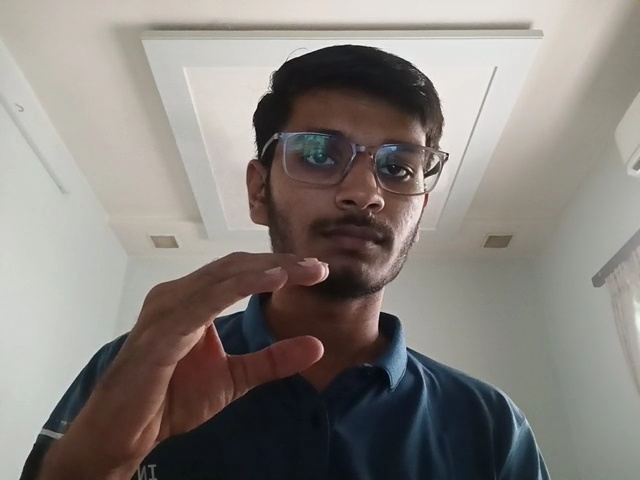No: (121, 245, 341, 451)
